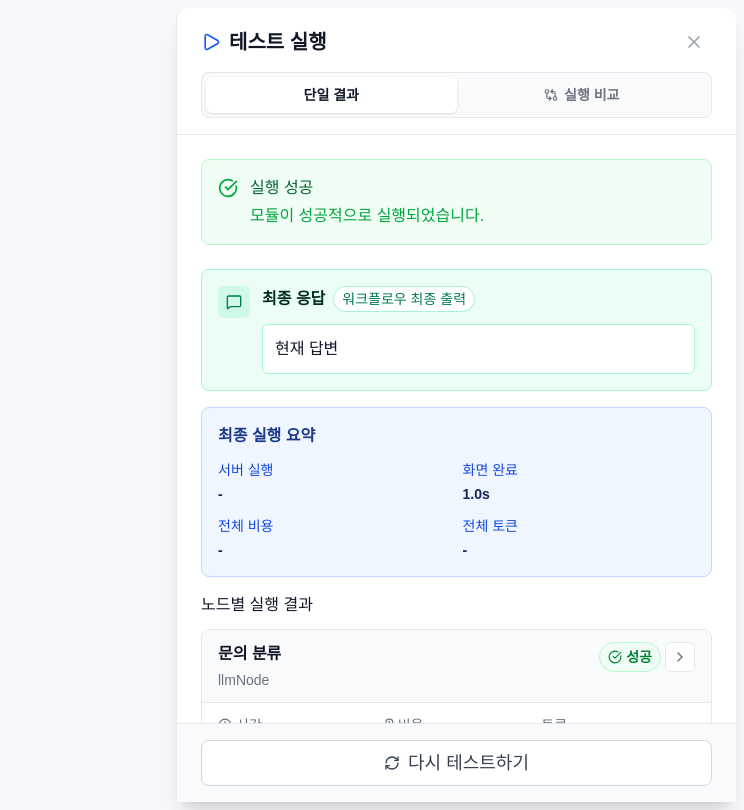
Test case: TestSidebar execution comparison › 워크플로우 화면을 벗어나지 않고 TestSidebar를 실행 비교 모드로 전환한다
This screenshot has width=744, height=810.
Click the button "실행 비교". click: x=582, y=95
box: 456,77 -> 707,113
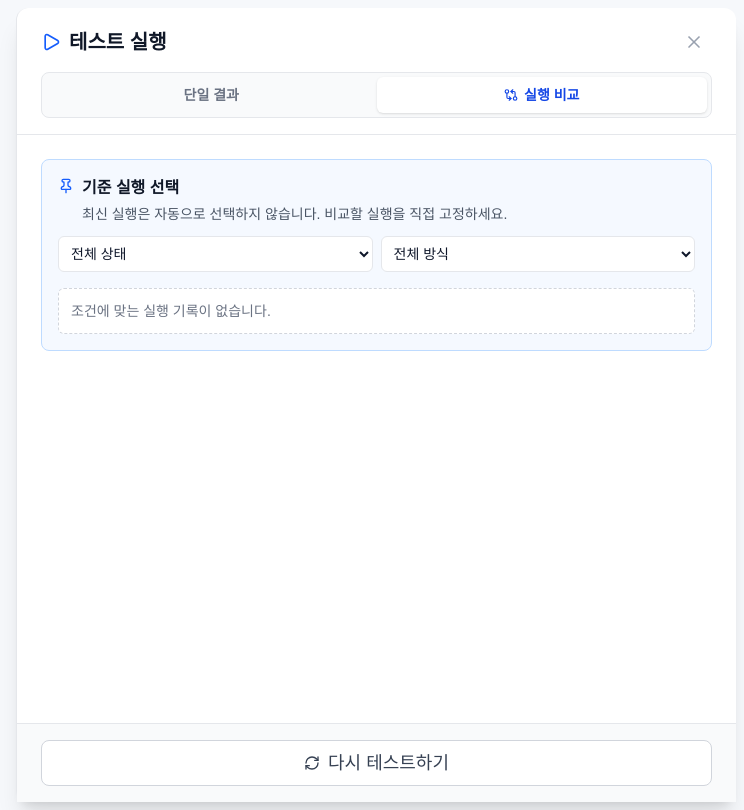
expect the heading "기준 실행 선택" is shown: met, box 82,179 -> 179,196
expect the heading "노드별 실행 결과" is gone: met
